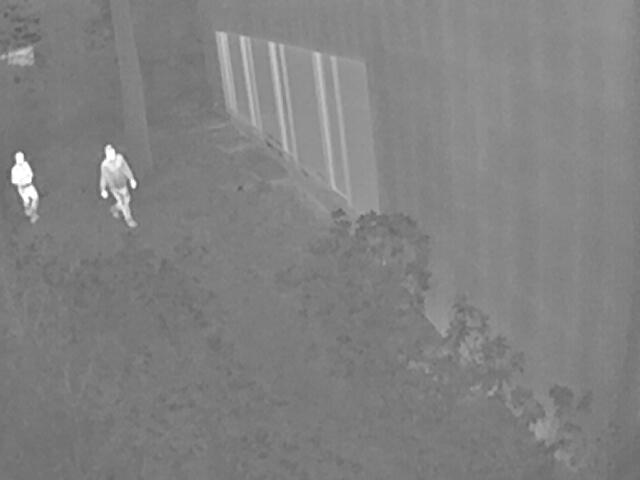person: (98, 143, 137, 227), (9, 151, 37, 223)
